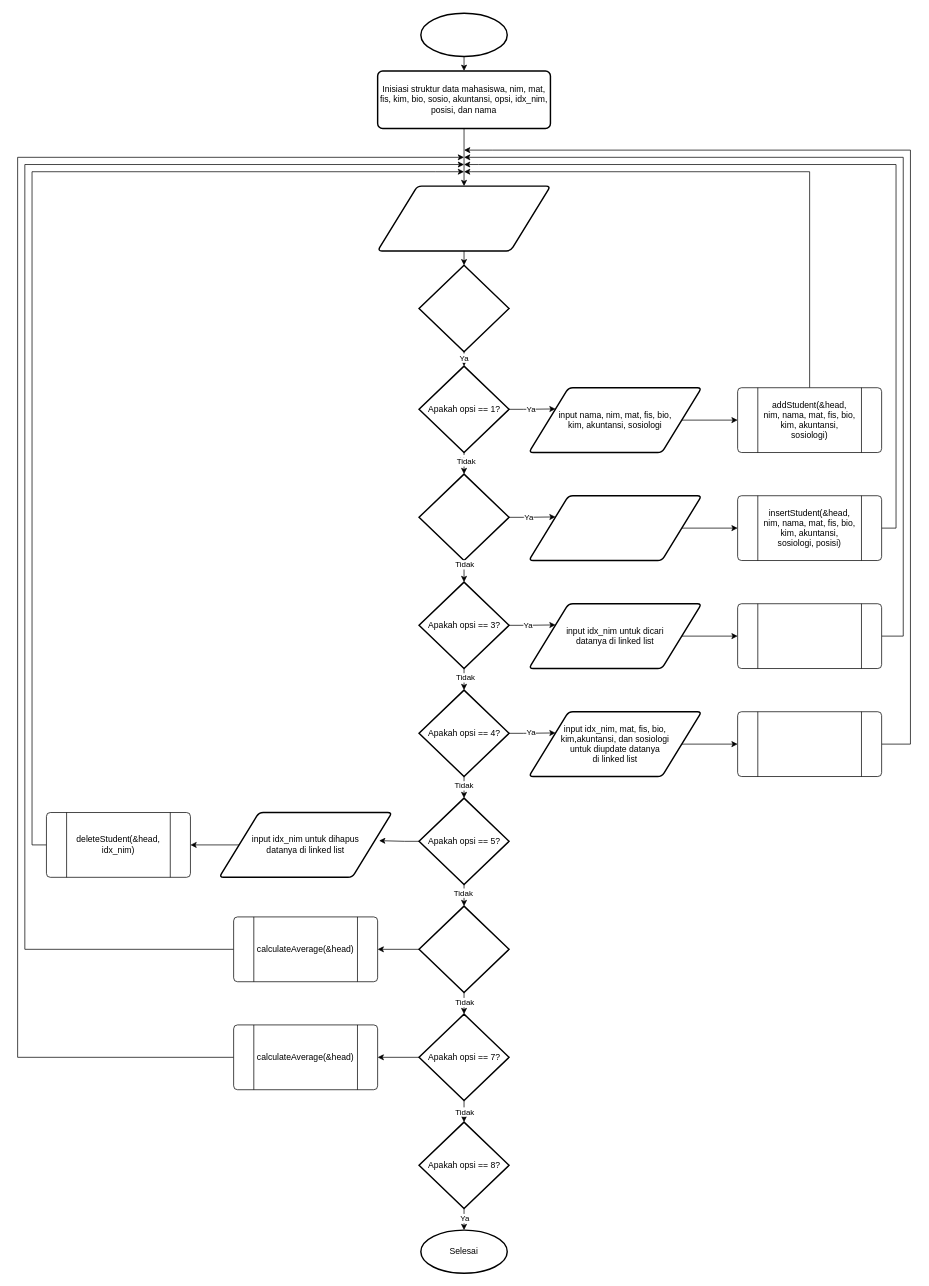
Some shapes in this 929 by 1286 pixel diagram are drawn without their labels. The shapes that lost their labels are listed below. From the top down, each one's box as (x1, y1, x2, y2) in pixels, then its label:
(420, 12, 508, 57): Mulai
(377, 185, 551, 251): input pilihan opsi oleh pengguna
(418, 264, 509, 352): Apakah opsi != 8?
(418, 473, 509, 561): Apakah opsi == 2?
(528, 495, 702, 561): input nama, nim, mat, fis, bio, kim, akuntansi, sosiologi, posisi
(737, 603, 882, 669): searchStudent(head, idx_nim)
(737, 711, 882, 777): updateMarks(head, idx_nim, mat, fis, bio, kim, akuntansi, sosiologi)
(418, 905, 509, 993): Apakah opsi == 6?
